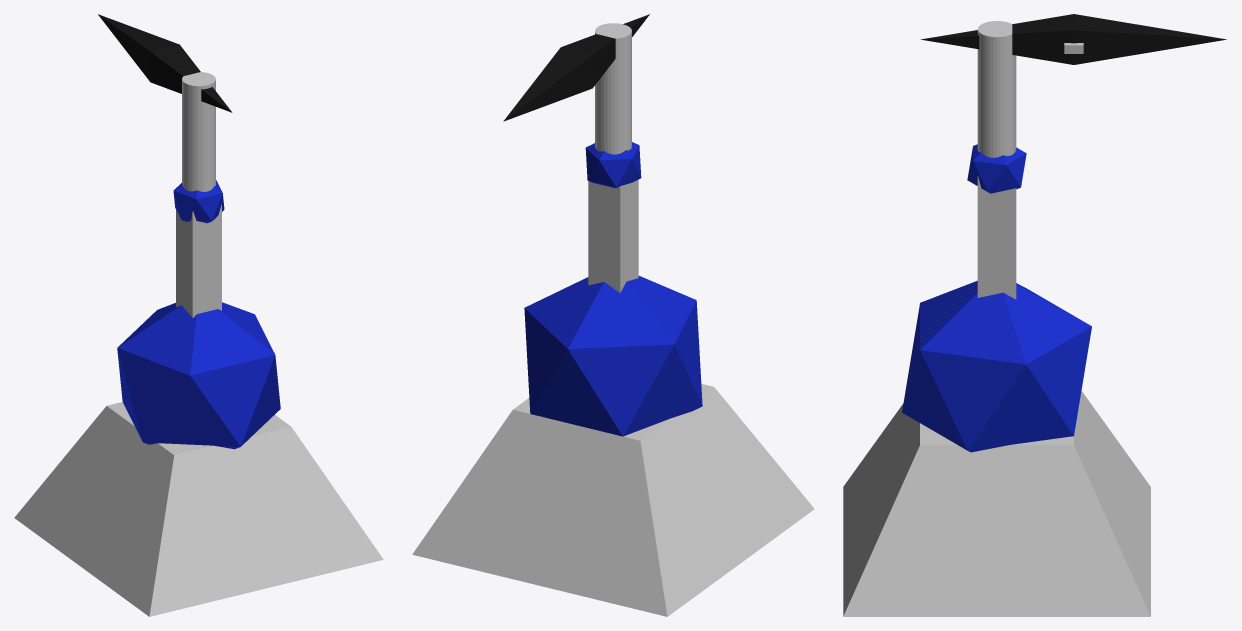
Rendered from robot_full.obj.
The picture shows the model from 3 angles, left to right: view 1: azimuth 30°, elevation 25°; view 2: azimuth 150°, elevation 25°; view 3: azimuth 270°, elevation 25°; orthographic projection. The views are drawn at different scales.
Parts seen in each view (by area): view 1: Cube, Icosphere, Cube.001, Cylinder, Cube.002, Icosphere.001; view 2: Cube, Icosphere, Cube.001, Cube.002, Cylinder, Icosphere.001; view 3: Cube, Icosphere, Cube.002, Cylinder, Cube.001, Icosphere.001.
Boxes of the visible parts, <box> form: Cube: <box>14,402,383,616</box>; Icosphere: <box>117,302,280,449</box>; Cube.001: <box>176,204,221,317</box>; Cylinder: <box>182,72,215,191</box>; Cube.002: <box>98,14,232,112</box>; Icosphere.001: <box>173,180,224,223</box>; Cube: <box>412,384,814,616</box>; Icosphere: <box>524,276,702,436</box>; Cube.001: <box>588,179,638,292</box>; Cube.002: <box>503,14,649,121</box>; Cylinder: <box>595,23,631,154</box>; Icosphere.001: <box>585,142,641,188</box>; Cube: <box>843,391,1150,616</box>; Icosphere: <box>902,280,1091,452</box>; Cube.002: <box>920,14,1226,64</box>; Cylinder: <box>977,21,1016,157</box>; Cube.001: <box>977,176,1016,299</box>; Icosphere.001: <box>967,144,1026,193</box>.
Bounding box in the file's own units: 2 × 3.8 × 2.5.
